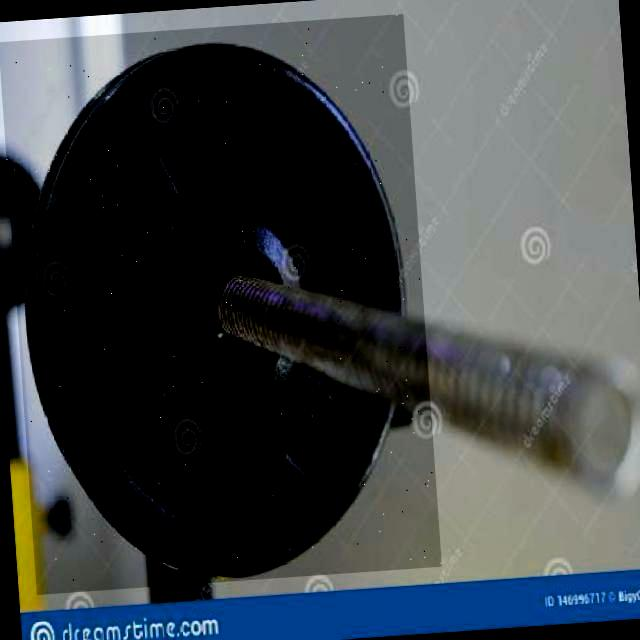barbell: (1, 15, 442, 595)
